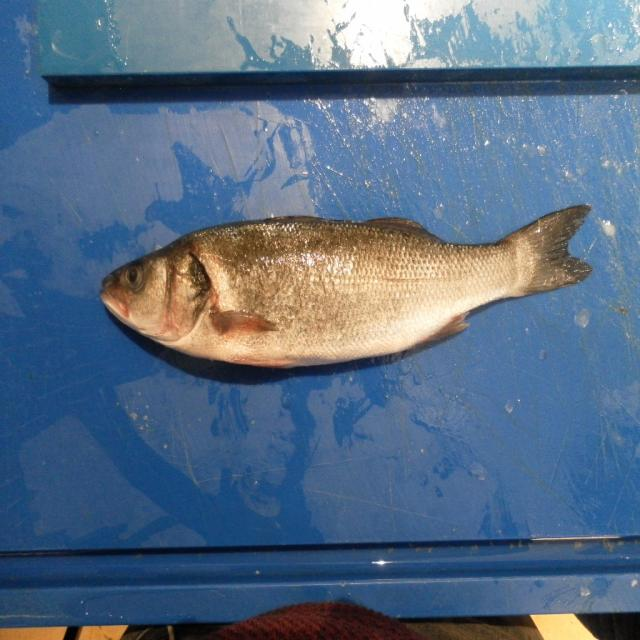Sea-Bass-levrek-: (99, 205, 592, 377)
